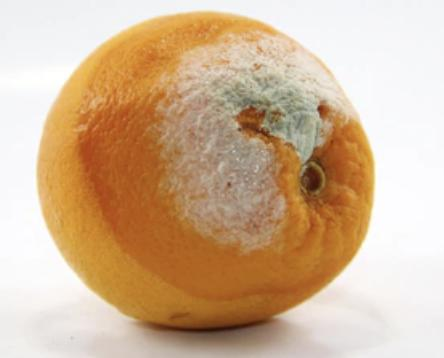Orange Rotten: (28, 9, 389, 348)
